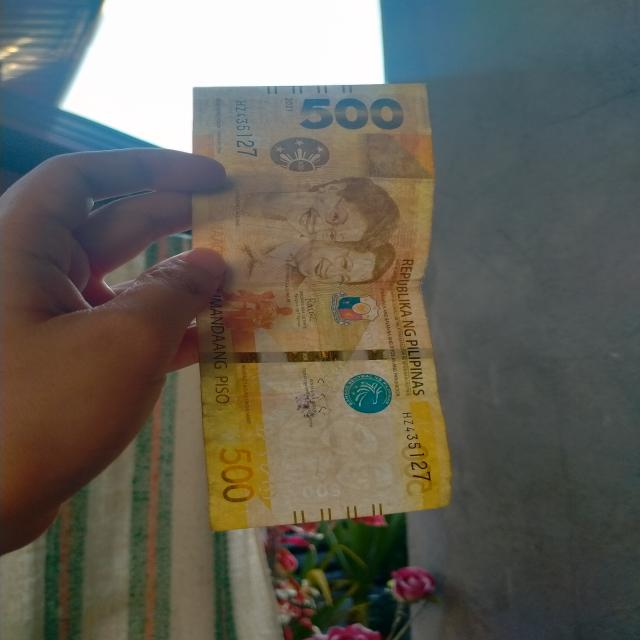optically_variable_device: (255, 125, 343, 185)
security_thread: (200, 346, 432, 362)
see_through_mark: (254, 422, 282, 501)
value_watermark: (289, 479, 348, 502)
watermark: (269, 410, 404, 504)
